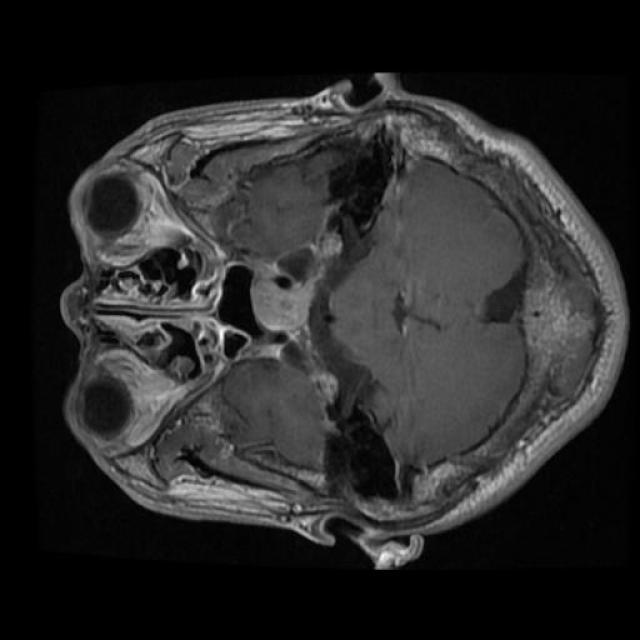Pituitary: (250, 244, 324, 378)
